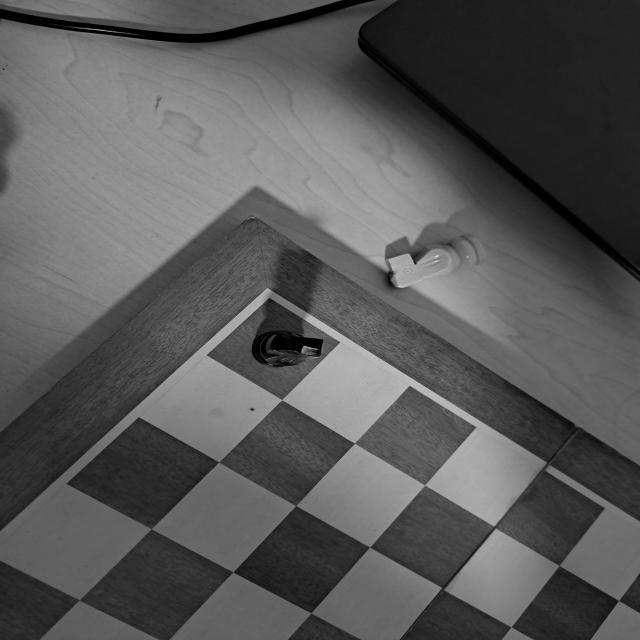chess-table-corners: (238, 282, 300, 318)
